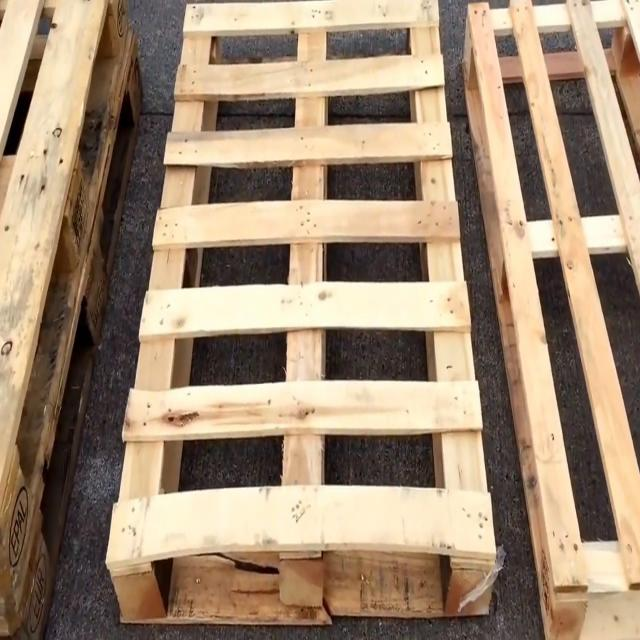Palette: (103, 0, 507, 636), (461, 0, 640, 640), (0, 0, 150, 640)
